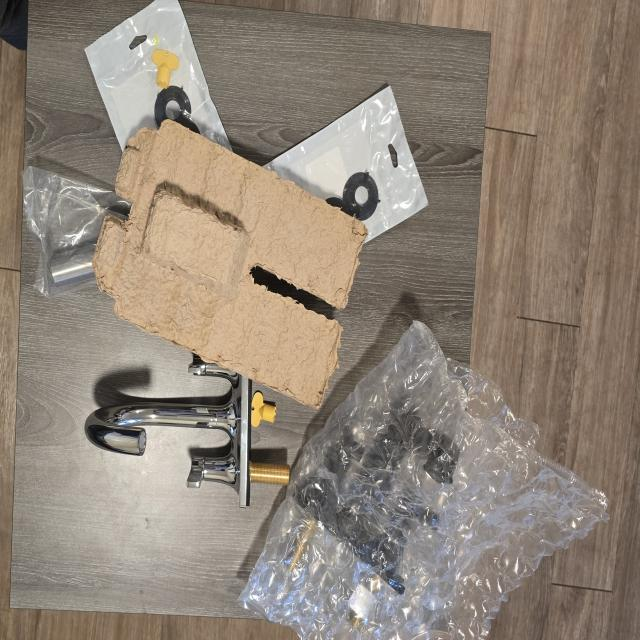10o: (85, 355, 290, 507)
11o: (23, 166, 131, 296)
12o: (85, 0, 231, 151)
13o: (266, 86, 430, 243)
14: (249, 390, 276, 427)
9c: (241, 321, 609, 640)
